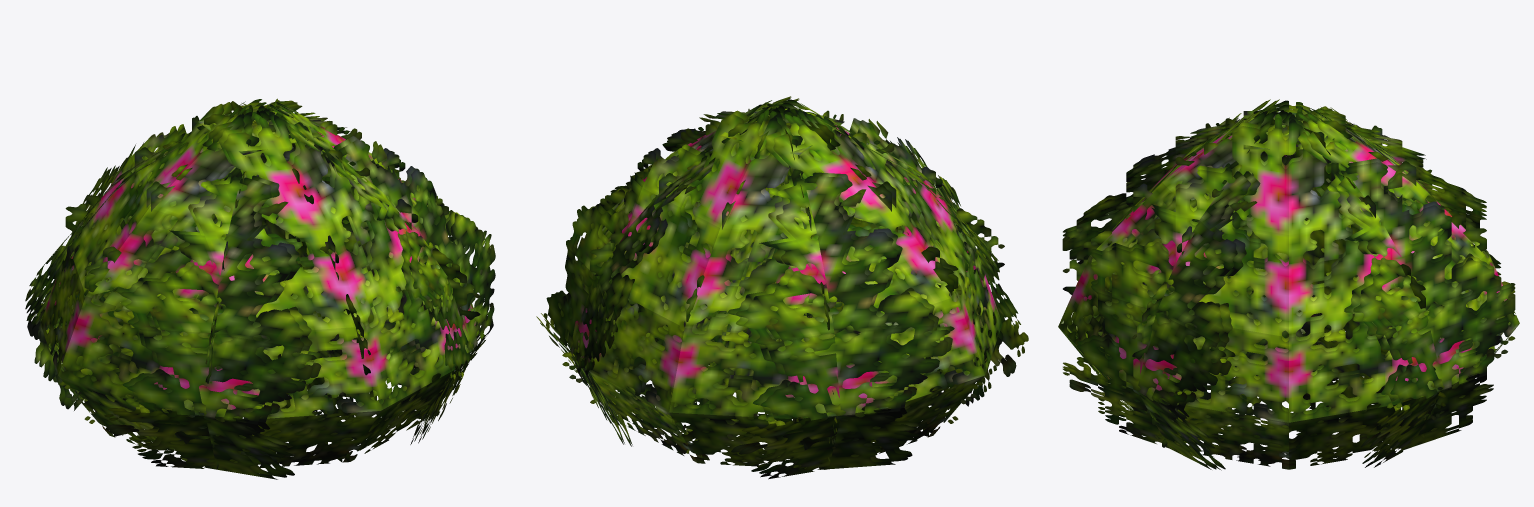
The model's file is bougainvillea_pink_bush.glb.
The picture shows the model from 3 angles, left to right: view 1: azimuth 30°, elevation 25°; view 2: azimuth 150°, elevation 25°; view 3: azimuth 270°, elevation 25°; orthographic projection.
Visible parts, largest first — view 1: bush2; view 2: bush2; view 3: bush2.
Boxes of the visible parts, x1,y1,x2,y2 form: bush2: (25, 98, 495, 479); bush2: (536, 96, 1028, 479); bush2: (1058, 99, 1519, 470).
Size of the model in its own units: 1.02 by 0.7 by 1.02.
Materials: 1 (1 with a texture image).
